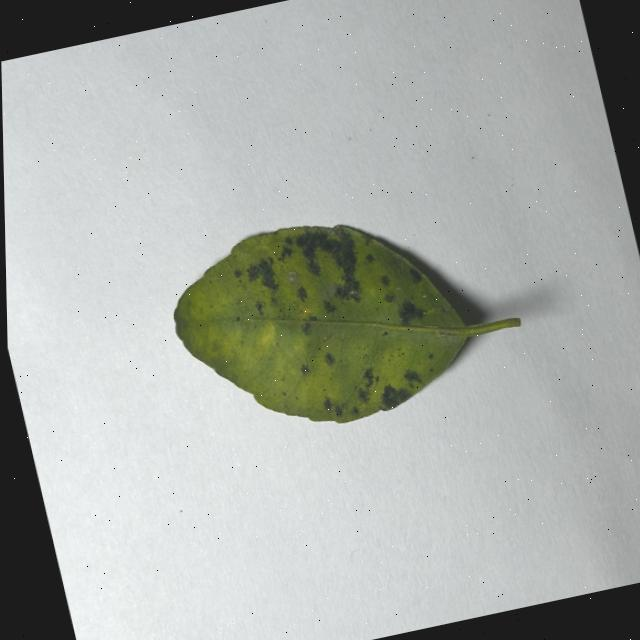sooty_mold: (173, 225, 517, 422)
